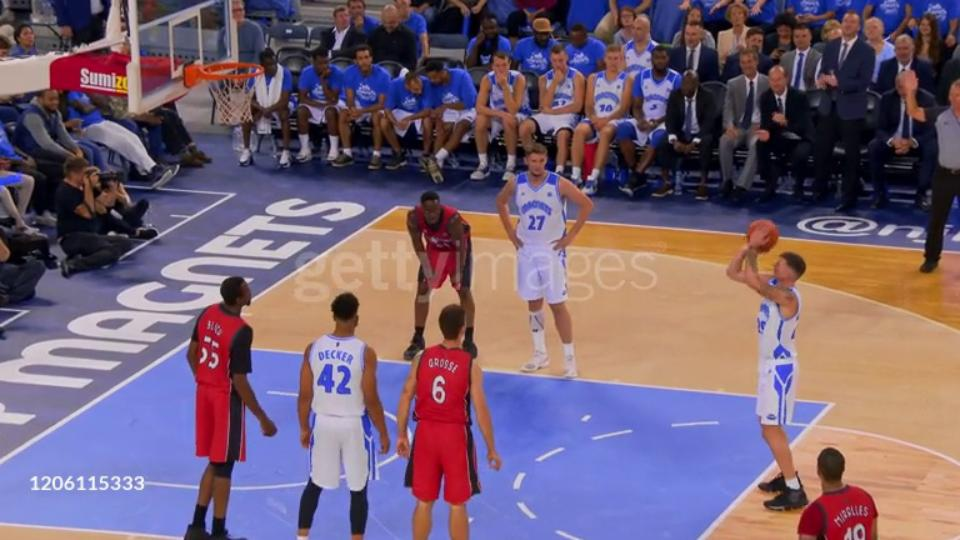hoop: (180, 58, 264, 84)
